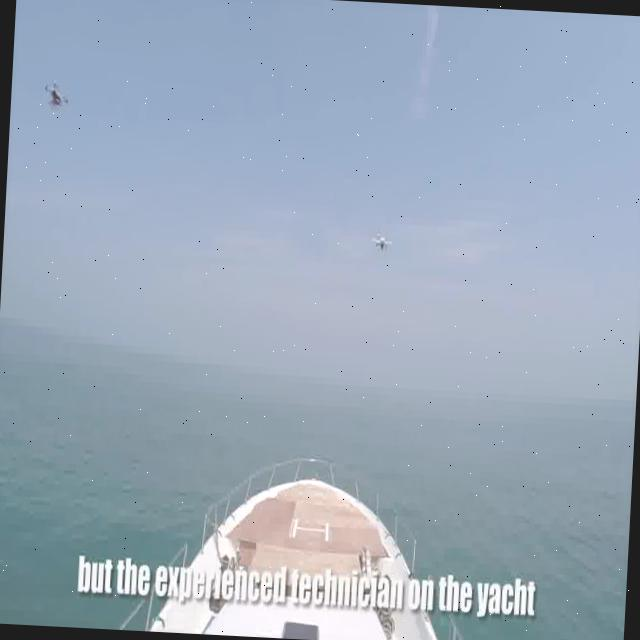drone: (40, 76, 71, 111), (368, 224, 394, 254)
